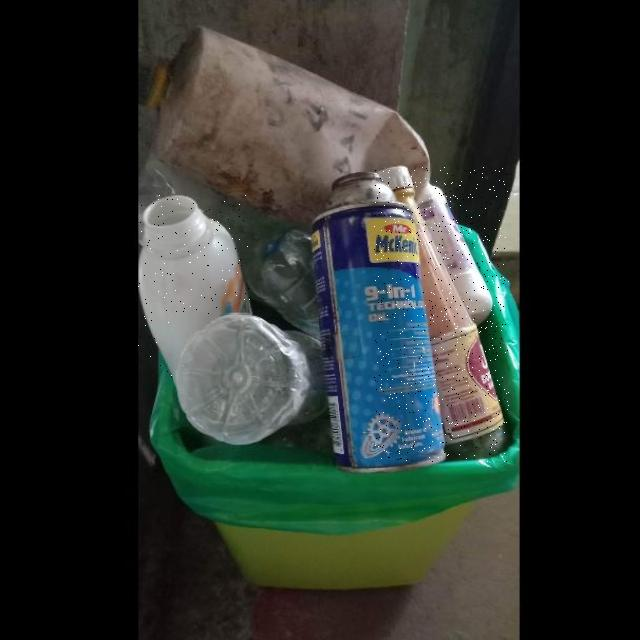glass: (375, 167, 509, 462)
plastic: (138, 195, 250, 380), (174, 314, 327, 447), (418, 184, 492, 326)
